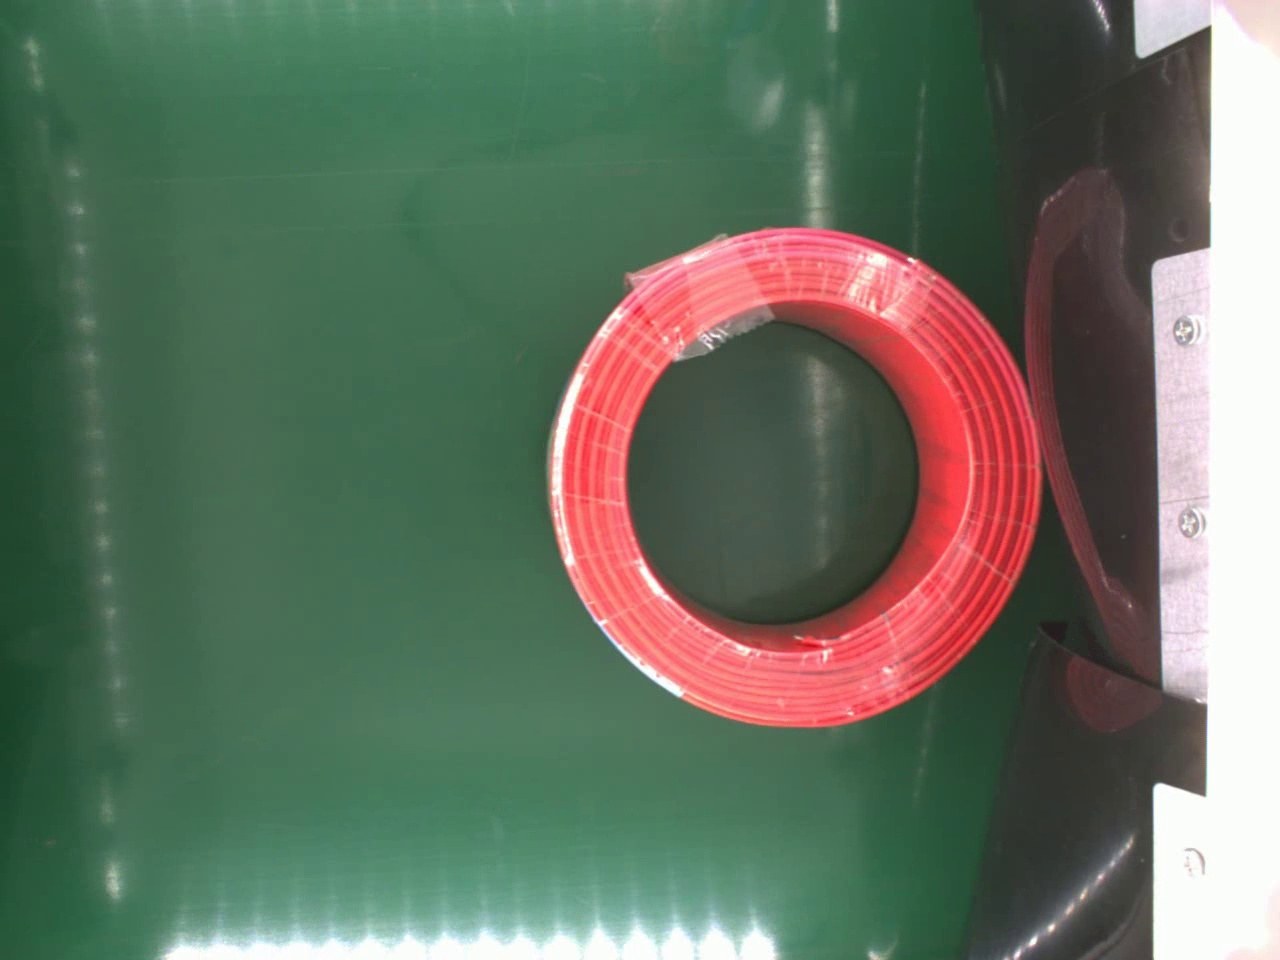red: (547, 225, 1046, 733)
